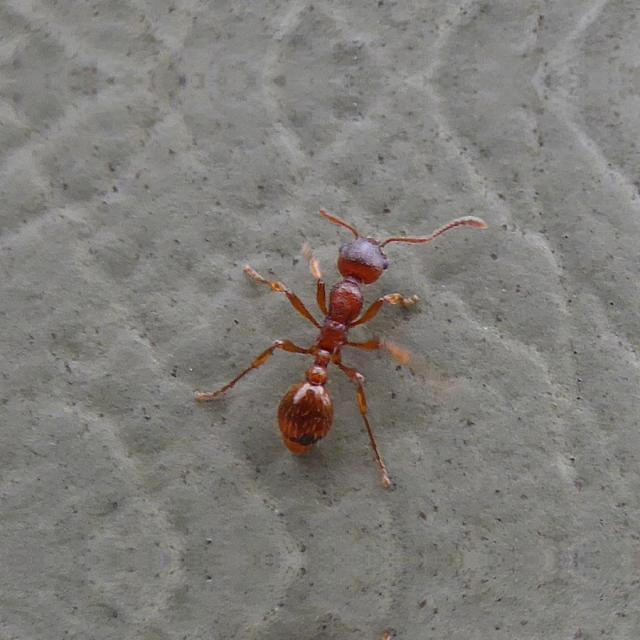Myrmica: (229, 185, 427, 470)
